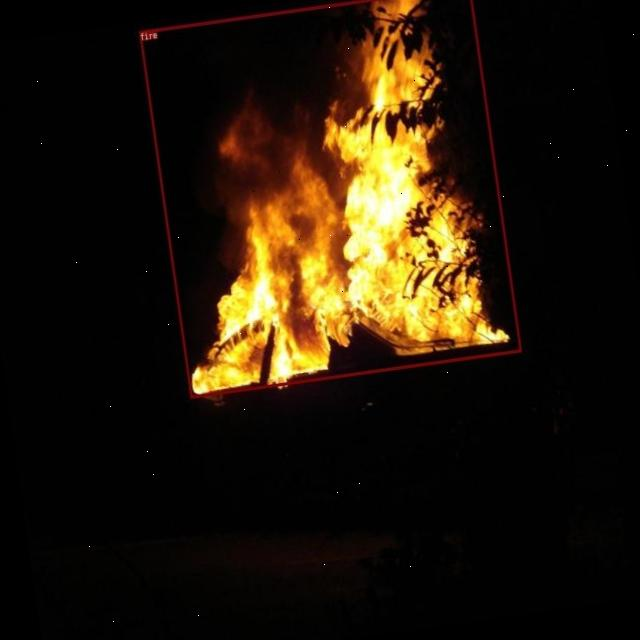fire: (139, 0, 521, 398)
